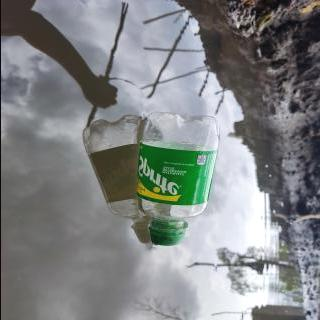bottle: (132, 110, 222, 248)
